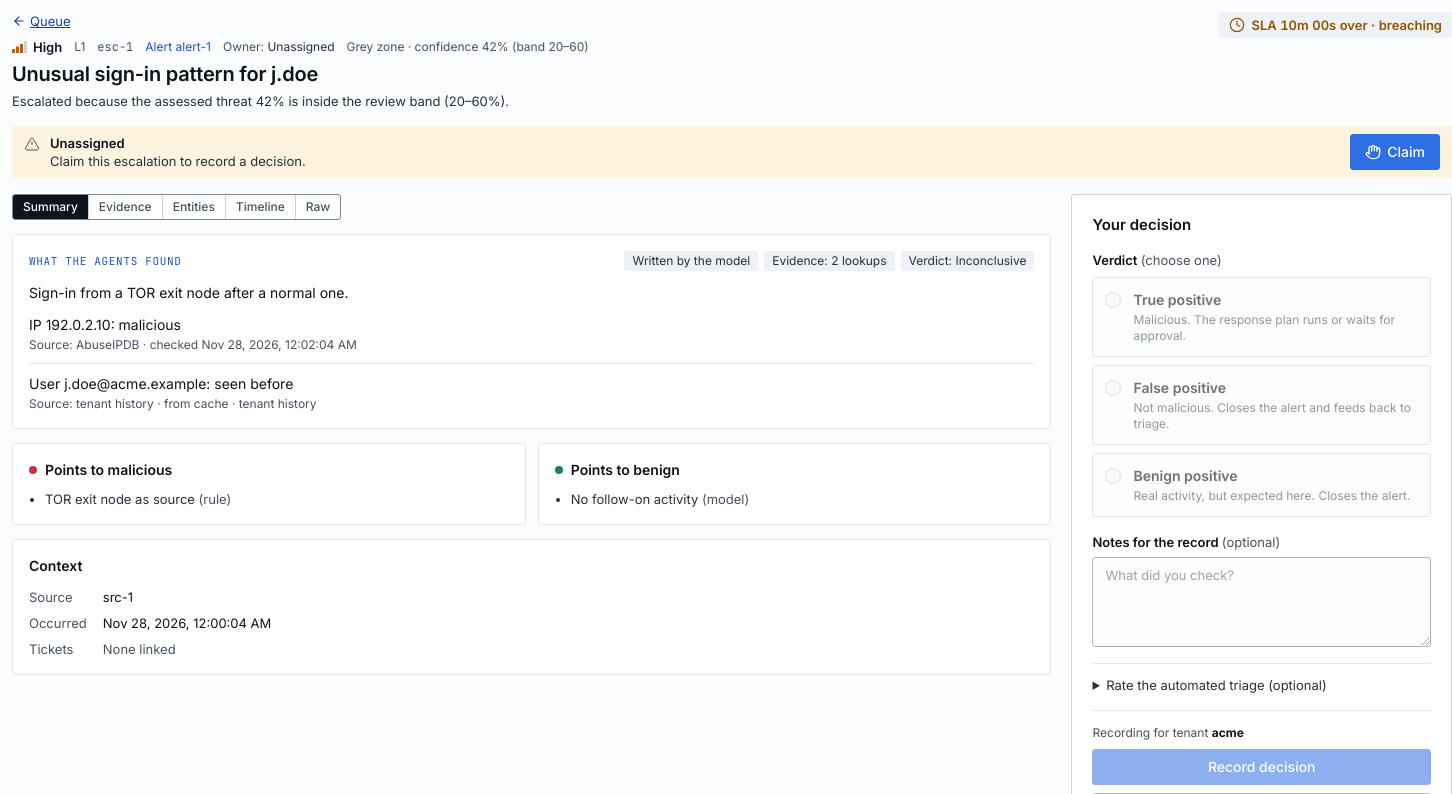
decision page header and claim state › offers a prominent Claim on an unclaimed escalation; deciding waits for it
This screenshot has width=1452, height=794.
Expected: the heading "Unusual sign-in pattern for j.doe" is shown, [12,62,318,86]
Expected: the text "Claim this escalation to record a decision." is shown, [50,153,306,169]
Click the button "Claim" at (1395, 152), box [1350,134,1440,170]
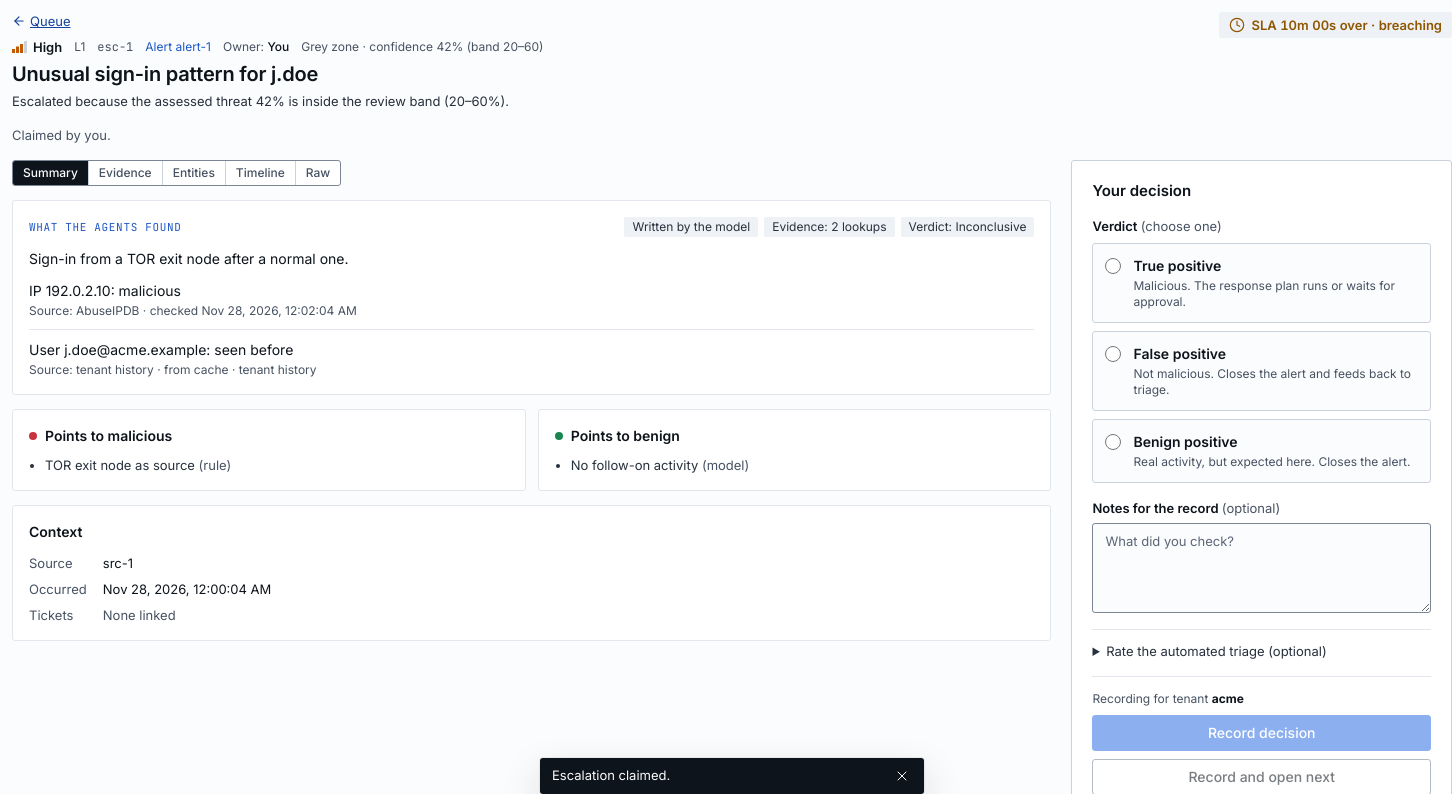
Expected: the radio button labelled "True positive" is enabled, [1106,258,1122,274]
Result: the text "Escalation claimed." is shown at [552,767,670,783]
